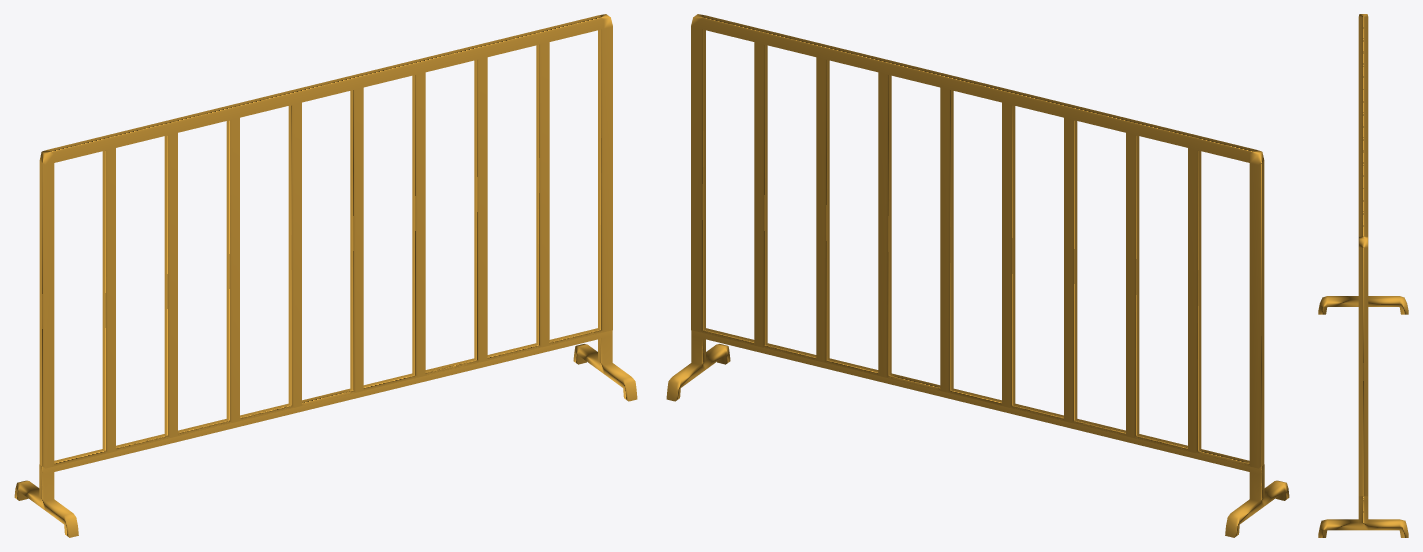
The model's file is barricade-bike-rack.glb.
3 views of the same model, side by side, from view 1: azimuth 30°, elevation 25°; view 2: azimuth 150°, elevation 25°; view 3: azimuth 270°, elevation 25° (orthographic). The views are drawn at different scales.
Parts seen in each view (by area): view 1: Cube.067; view 2: Cube.067; view 3: Cube.067.
Part boxes in pixels (<box>): Cube.067: <box>14,14,637,537</box>; Cube.067: <box>666,14,1289,537</box>; Cube.067: <box>1318,14,1408,537</box>.
Size of the model in its own units: 1.76 by 1.07 by 0.2956.
